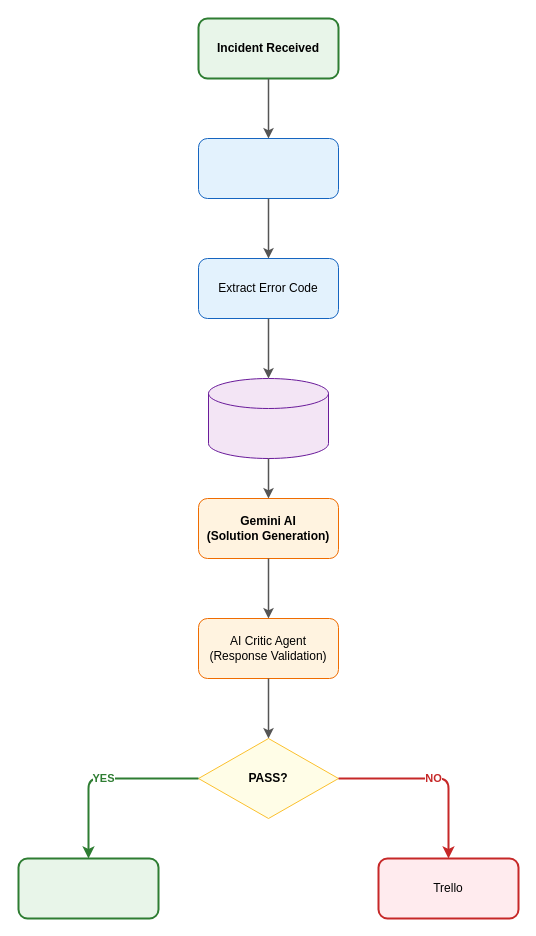
This 536x936 diagram has some shape labels left out. The shapes that lost their labels are listed below. From the top down, each one's box as (x1, y1, x2, y2) in pixels, then its label:
(198, 138, 338, 198): Webhook Trigger
(208, 378, 328, 458): Retrieve Knowledge (Pinecone)
(17, 857, 159, 919): Slack
